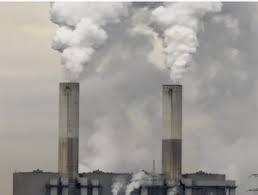smoke: (47, 1, 227, 82)
